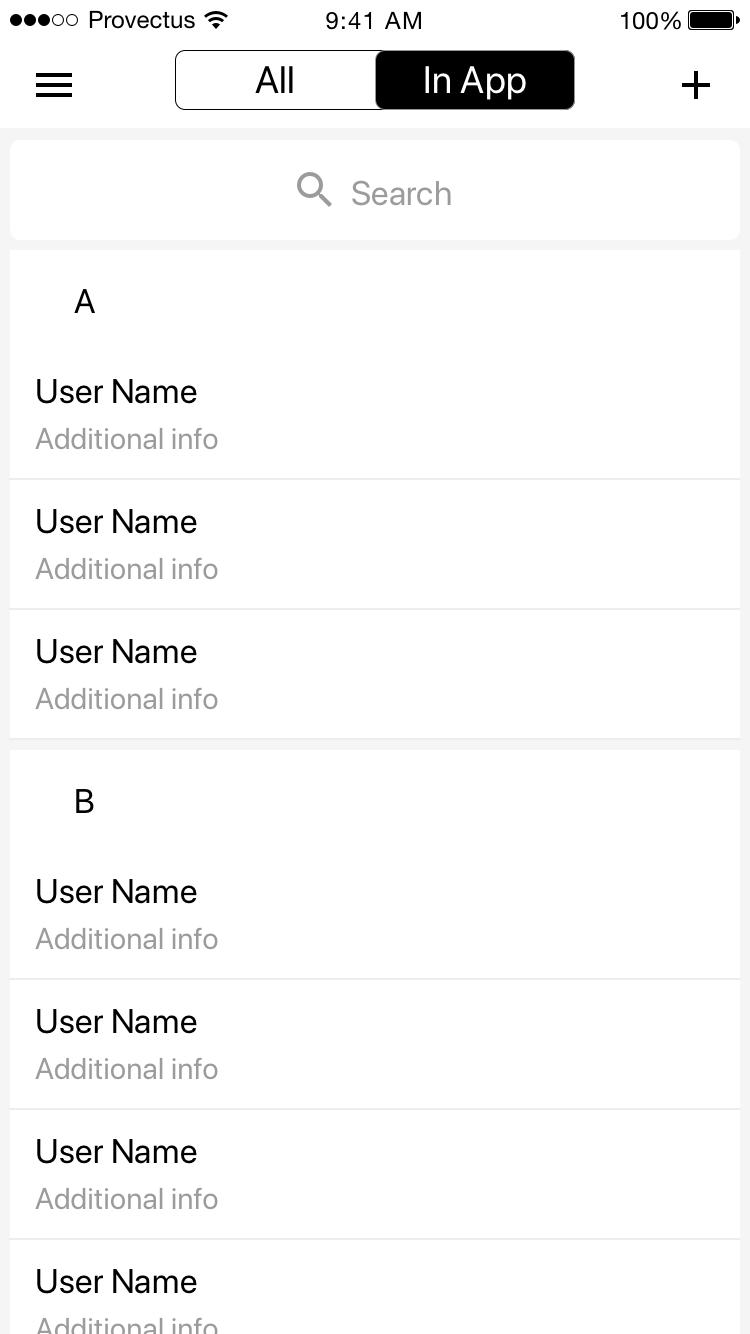EditText: (9, 140, 741, 242)
Icon: (296, 172, 334, 209), (36, 73, 74, 99), (681, 71, 711, 101)
Text: (34, 686, 220, 712), (34, 1187, 220, 1212), (35, 427, 220, 452), (37, 637, 198, 665), (36, 508, 200, 535), (36, 1267, 200, 1294), (36, 1138, 199, 1165), (37, 378, 200, 404), (36, 879, 199, 905), (37, 1008, 200, 1034), (35, 557, 219, 580), (36, 1057, 220, 1080), (35, 928, 220, 950), (351, 180, 453, 207), (76, 788, 97, 815), (75, 290, 97, 315)
TextButton: (175, 50, 386, 112), (376, 51, 575, 111)
Toolbar: (2, 40, 750, 129)
UpperTaskBar: (1, 1, 750, 32)
